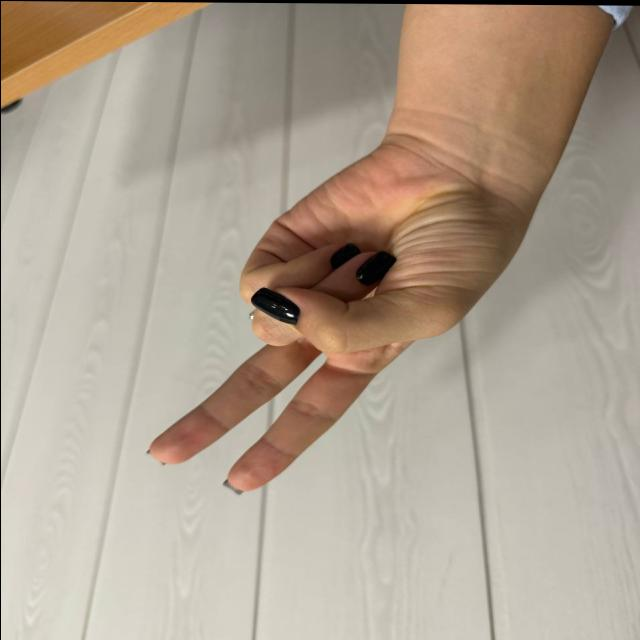k: (149, 164, 498, 501)
